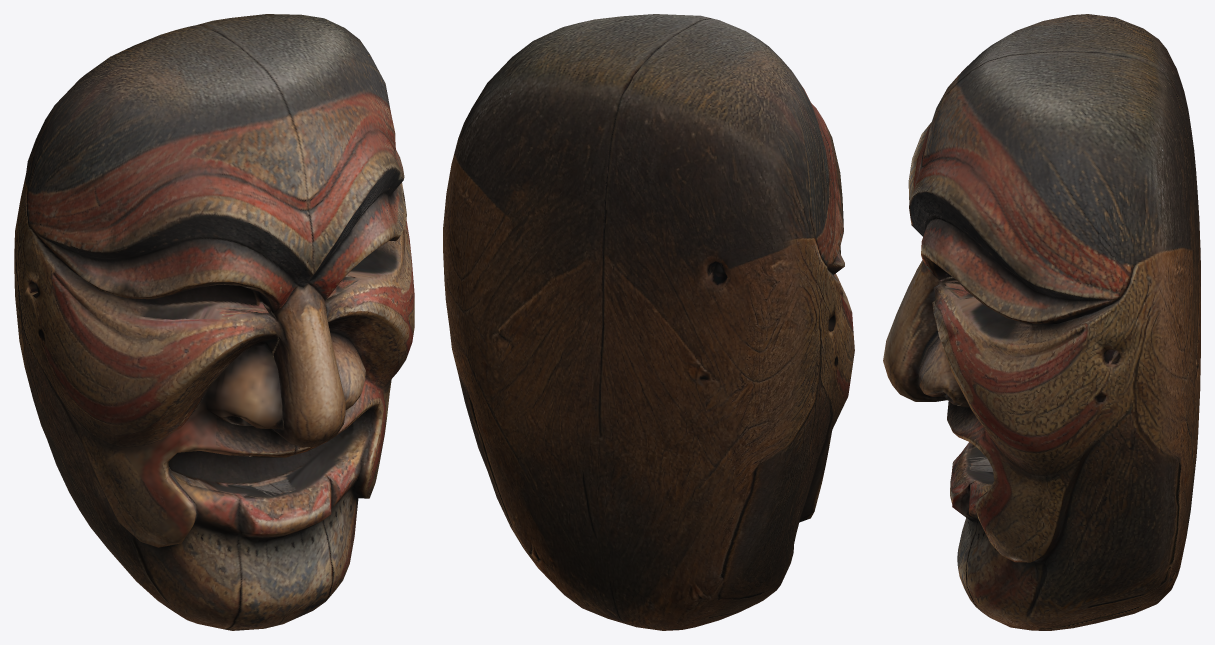
File: chg_Tal.fbx
The picture shows the model from 3 angles, left to right: view 1: azimuth 30°, elevation 25°; view 2: azimuth 150°, elevation 25°; view 3: azimuth 270°, elevation 25°; orthographic projection. The views are drawn at different scales.
Visible parts, largest first — view 1: texture_mapping; view 2: texture_mapping; view 3: texture_mapping.
Part boxes in pixels (bbox=[...]): texture_mapping: bbox=[14, 14, 414, 630]; texture_mapping: bbox=[443, 14, 854, 630]; texture_mapping: bbox=[883, 14, 1200, 630].
Bounding box in the file's own units: 0.6757 × 0.509 × 0.9998.
1 material, 1 textured.
